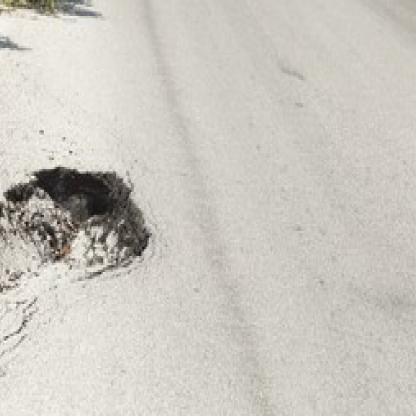pothole: (0, 170, 149, 278)
